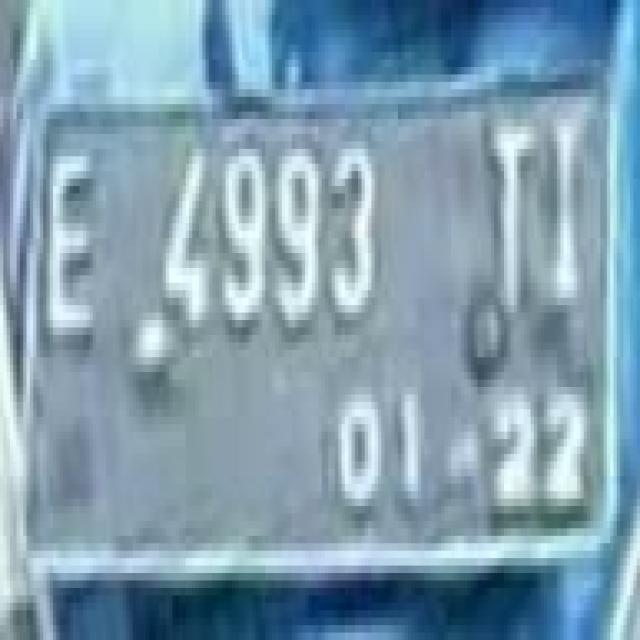3: (326, 145, 376, 324)
4: (161, 145, 207, 331)
9: (216, 134, 268, 335), (272, 138, 322, 338)
E: (44, 145, 102, 354)
I: (541, 105, 591, 296)
T: (478, 119, 538, 313)
